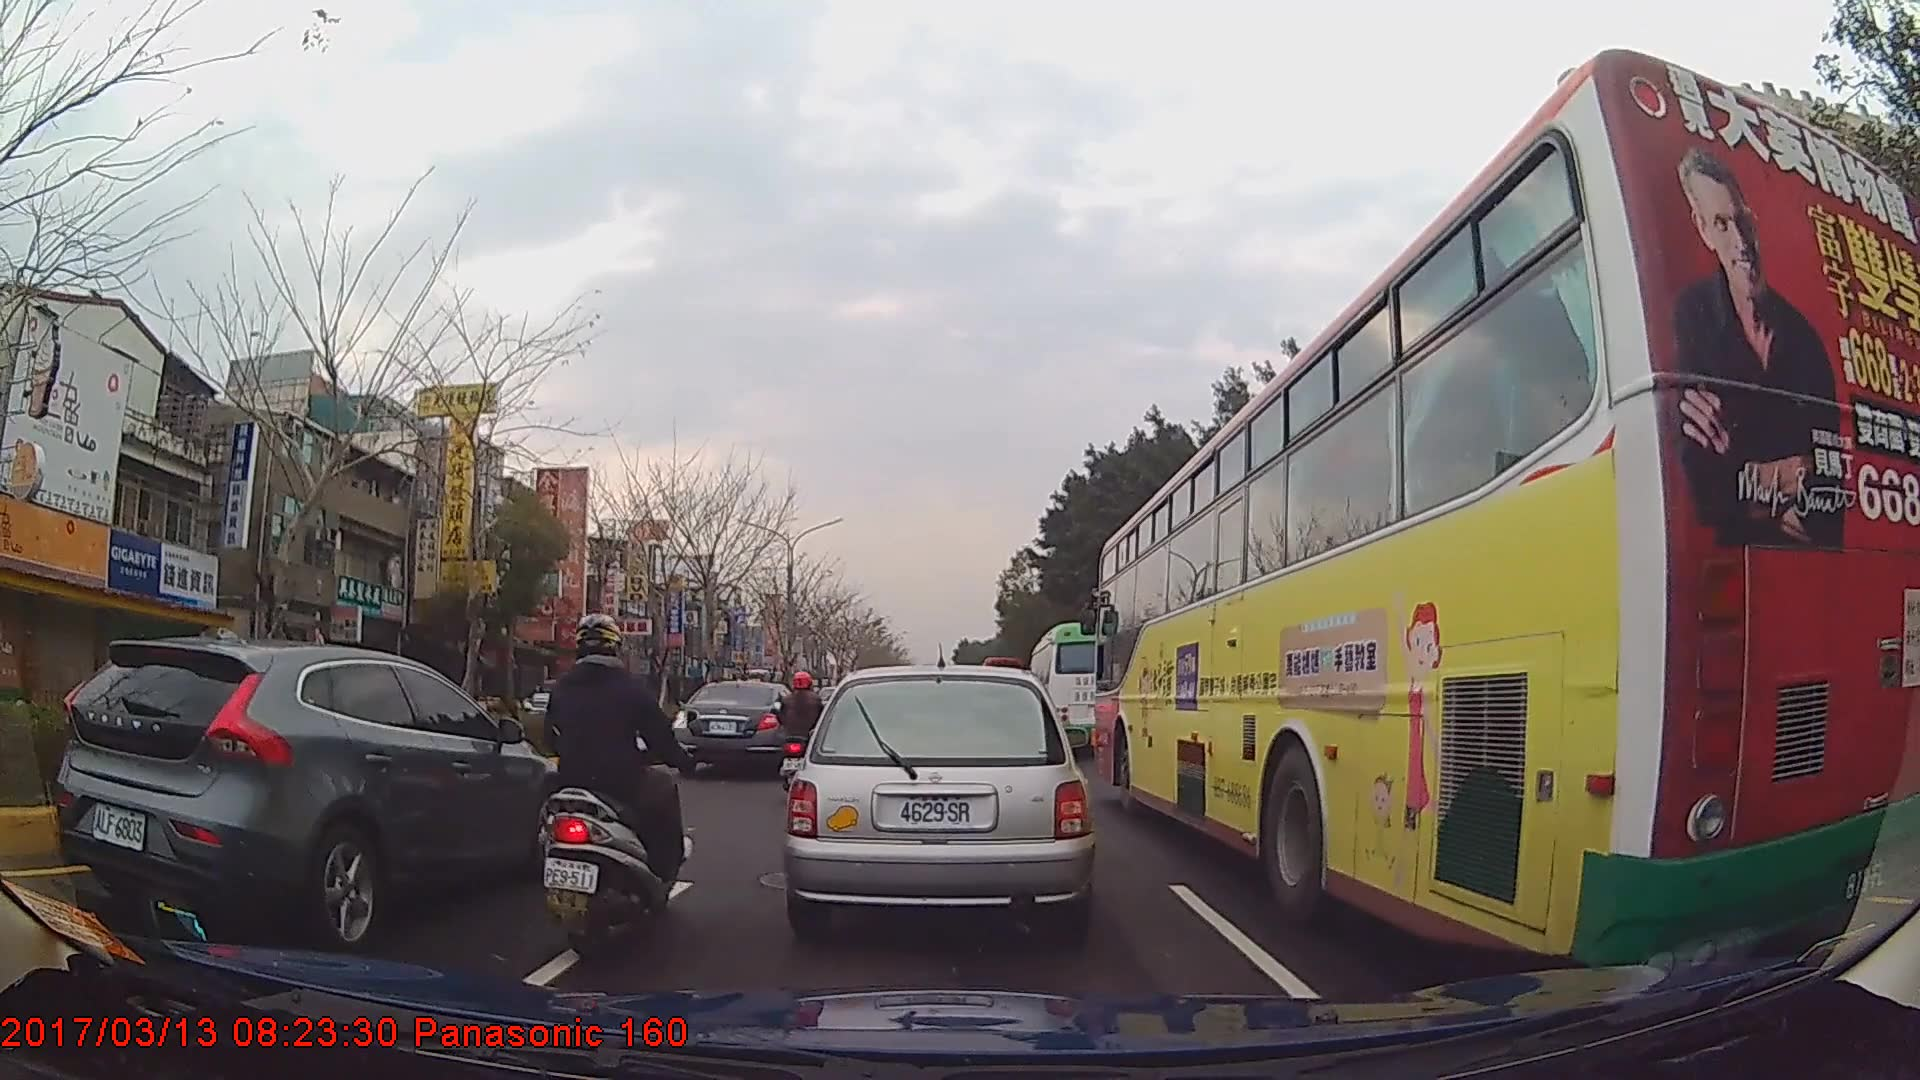rider: (538, 611, 686, 953), (774, 670, 831, 789)
vehicle: (1092, 42, 1920, 972), (57, 635, 569, 950), (782, 657, 1099, 938), (1028, 618, 1138, 758), (675, 677, 805, 776)
